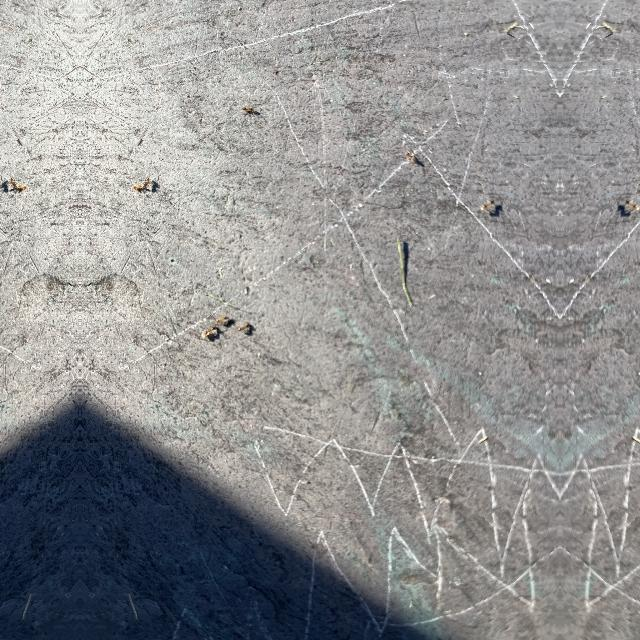Tapinoma: (132, 177, 160, 197), (0, 177, 28, 197), (405, 150, 427, 172), (488, 202, 504, 220), (205, 328, 223, 344), (616, 202, 632, 220), (244, 104, 262, 118)
